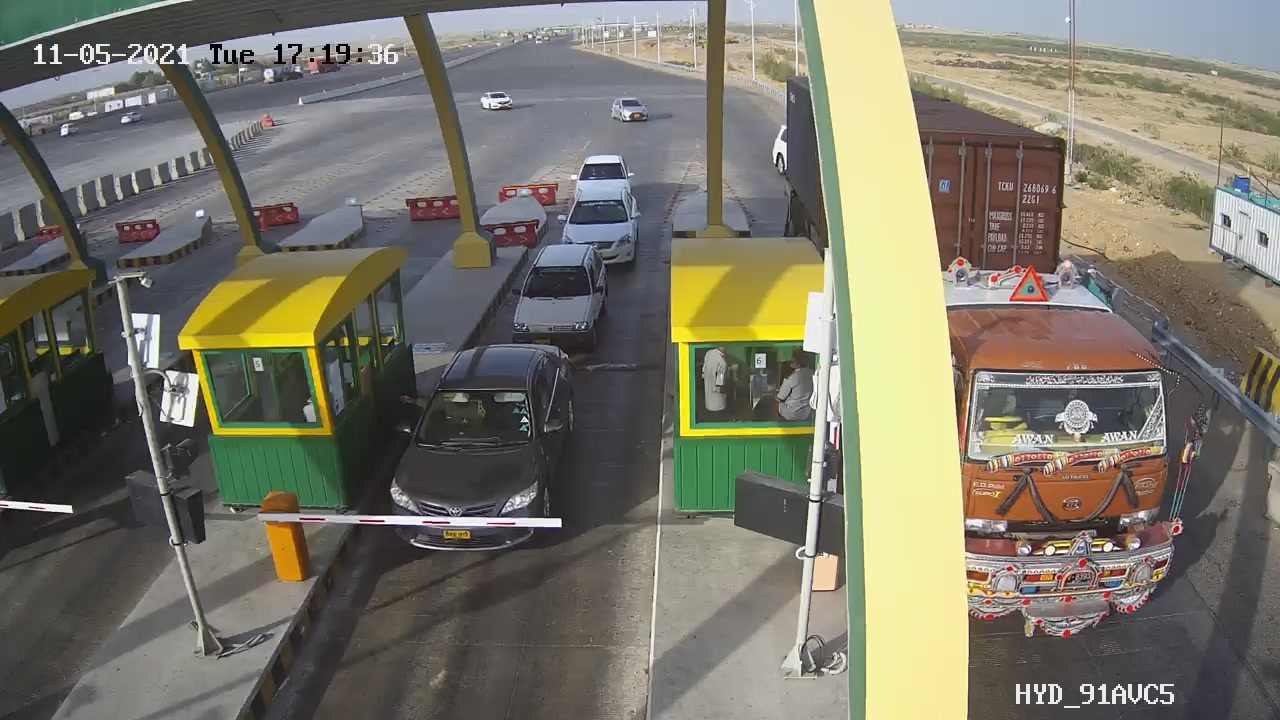F1: (376, 330, 604, 573), (499, 234, 625, 353), (548, 182, 652, 274)
